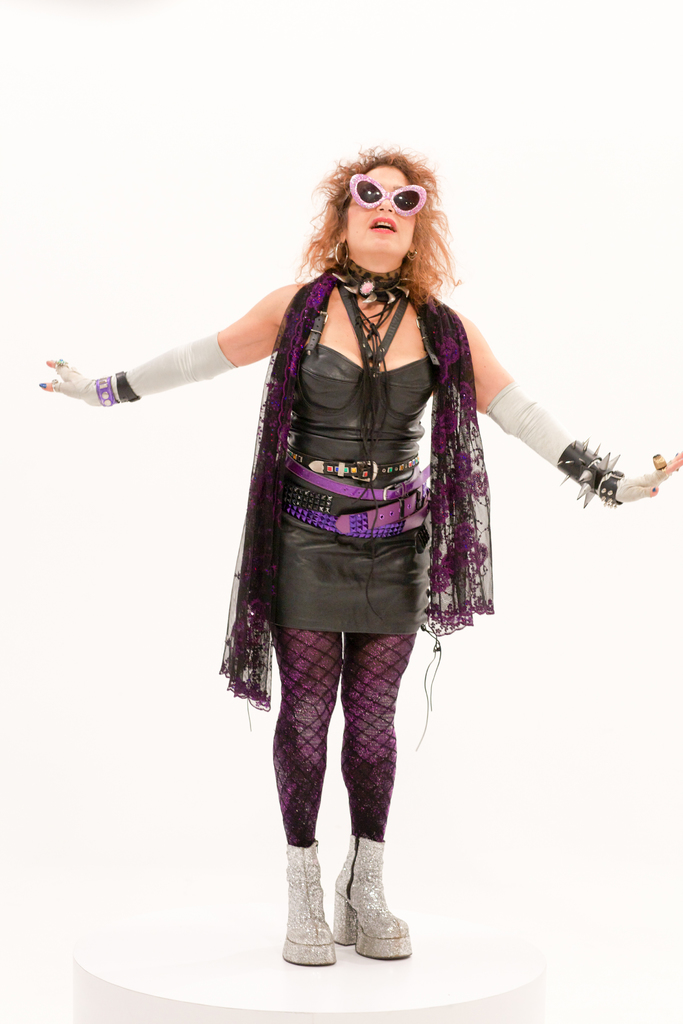Person: (39, 143, 683, 966)
